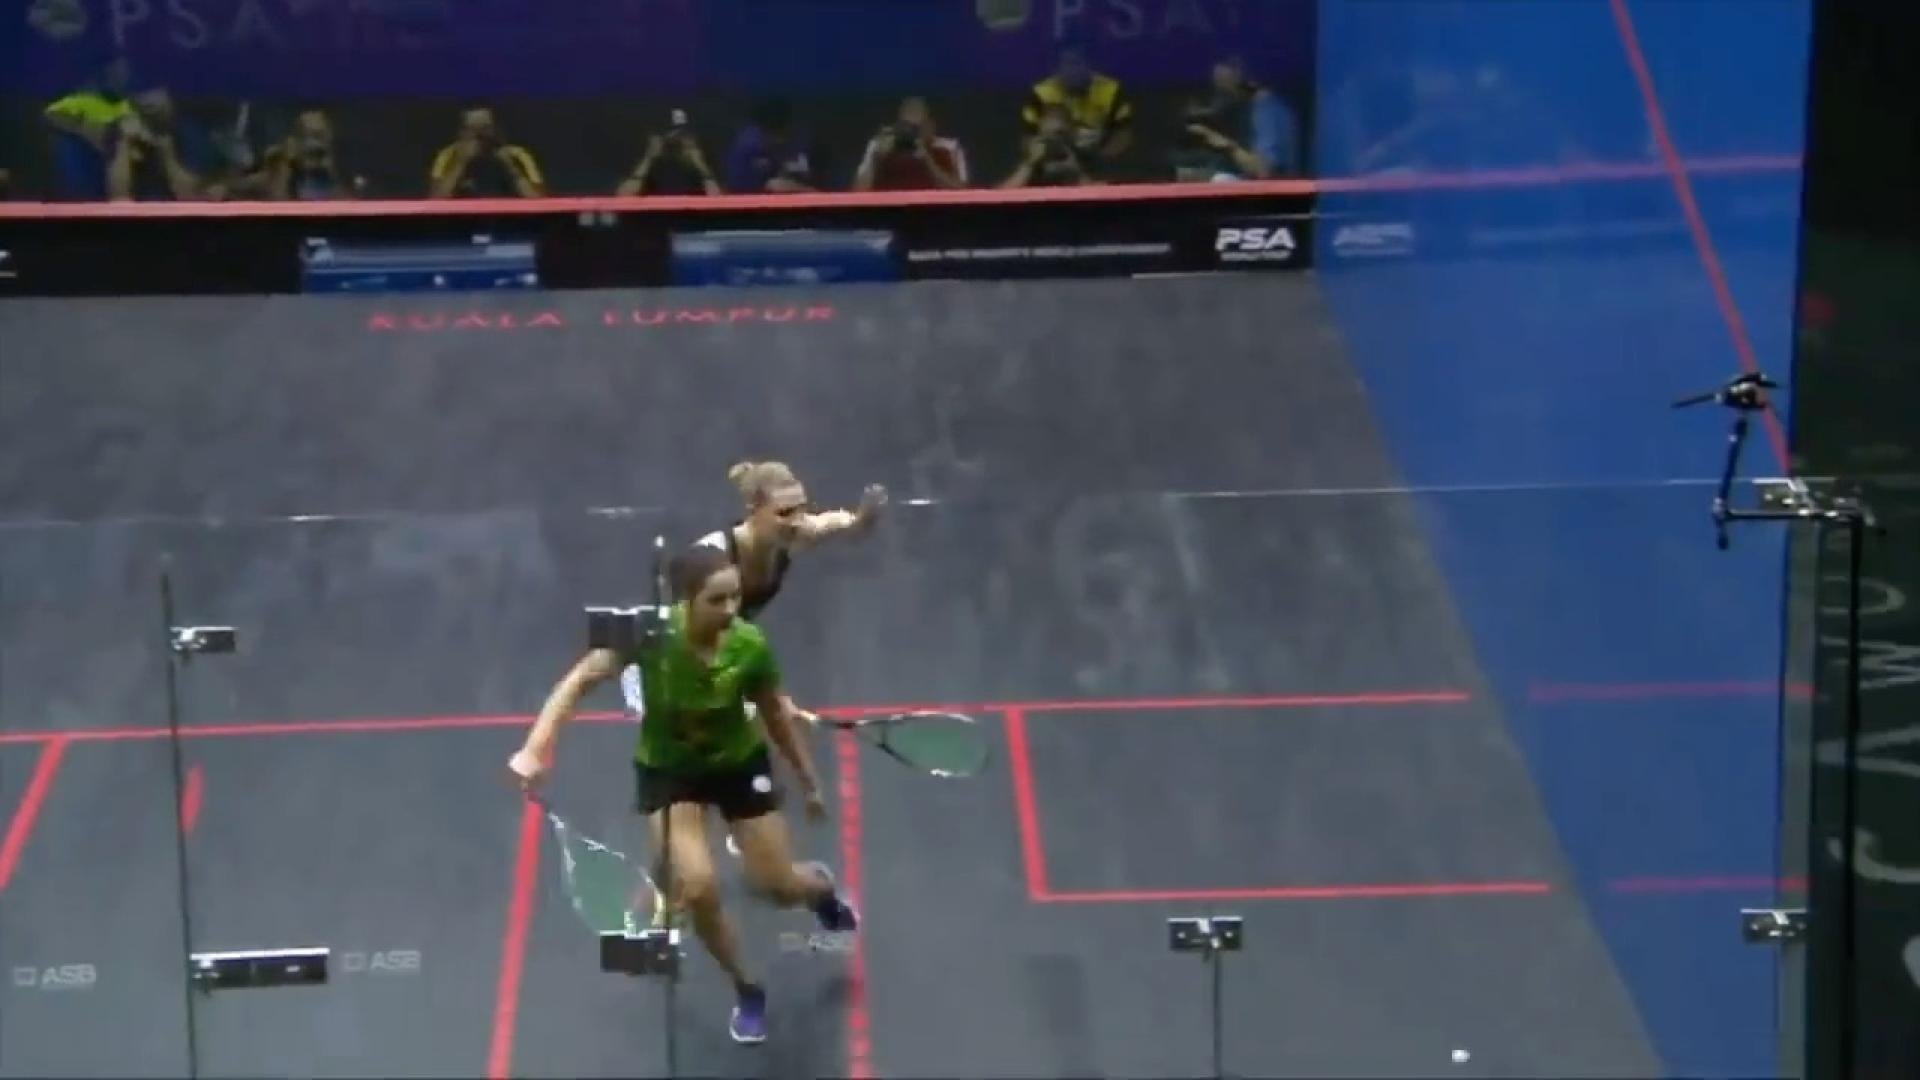Squash-Ball: (1440, 1040, 1485, 1073)
